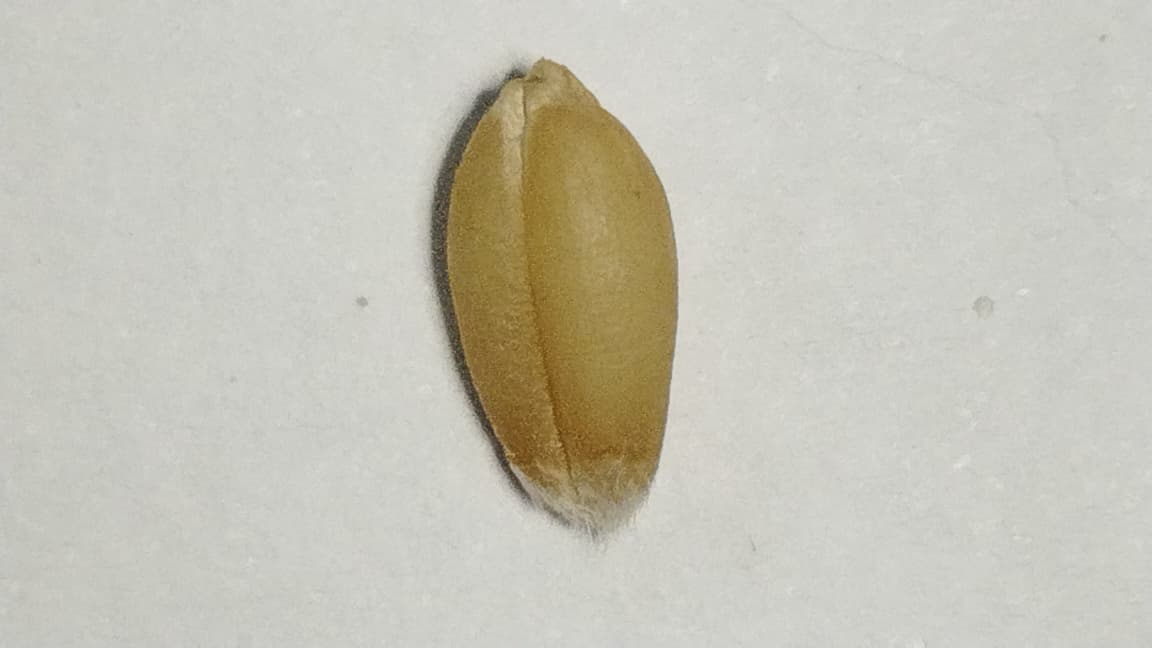healthy: (448, 60, 676, 502)
